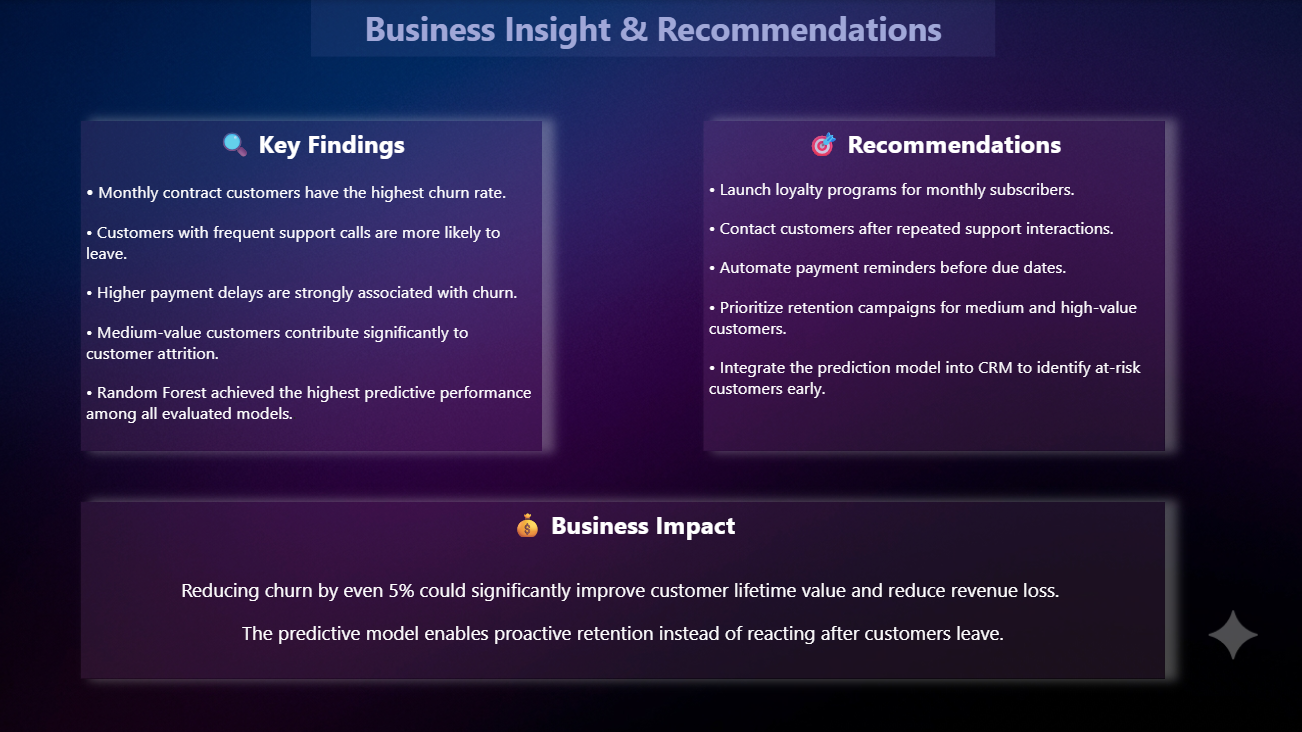

The page's visual inventory and layout, read from the dashboard file:
{"tool":"powerbi","page":{"name":"Page 5","canvas":[1280,720],"ordinal":4},"visuals":[{"type":"textbox","box":[305.7,0,670,55.7],"z":0},{"type":"textbox","box":[80,118.6,451.4,322.9],"z":1000},{"type":"textbox","box":[690,118.6,451.4,322.9],"z":2000},{"type":"textbox","box":[80,491.4,1061.4,172.9],"z":3000}]}

Visuals, with their boxes in screenshot pixels (x1, y1, x2, y2), scaled from the page's 1280x720 canvas onto the 1302x732 screenshot:
textbox: <bbox>311, 0, 992, 57</bbox>
textbox: <bbox>81, 121, 541, 449</bbox>
textbox: <bbox>702, 121, 1161, 449</bbox>
textbox: <bbox>81, 500, 1161, 675</bbox>
